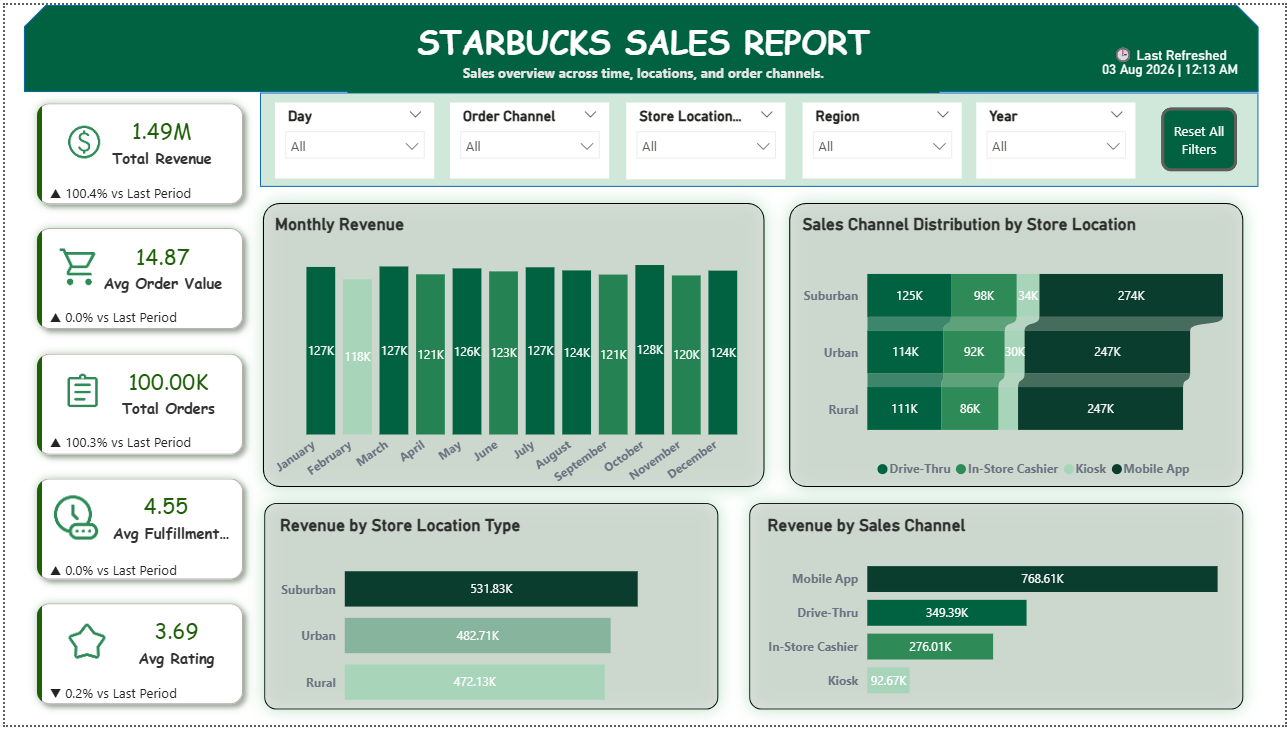

What the dashboard file says about the page in this screenshot:
{"tool":"powerbi","page":{"name":"OVERVIEW","canvas":[1280,720],"ordinal":0},"visuals":[{"type":"shape","box":[728.8,482.5,525,237.5],"z":0},{"type":"shape","box":[768.8,182.5,485,315],"z":1000},{"type":"shape","box":[243.8,482.5,485,237.5],"z":2000},{"type":"shape","box":[242.5,182.5,532.5,315],"z":3000},{"type":"shape","box":[255.3,87.7,998.4,94.4],"z":4000},{"type":"shape","box":[18.6,0,1234.9,87.2],"z":5000},{"type":"textbox","box":[343,8.1,591.9,79.1],"z":6000},{"type":"columnChart","title":"Monthly Revenue","fields":{"Category":["Calendar.Date.Variation.Date Hierarchy.Year","Calendar.Date.Variation.Date Hierarchy.Quarter","Calendar.Date.Variation.Date Hierarchy.Month"],"Y":["MEASURE_Table.Total Revenue"]},"box":[265,208.8,487.5,288.8],"z":7000},{"type":"slicer","fields":{"Values":["STARBUCKS.order_channel"]},"box":[445.4,97,159.5,75.8],"z":8000},{"type":"slicer","title":"Days","fields":{"Values":["STARBUCKS.day_of_week"]},"box":[269.9,97,159.5,75.8],"z":9000},{"type":"cardVisual","fields":{"Data":["MEASURE_Table.TOTAL_REVENUE","MEASURE_Table.Avg_order_val","MEASURE_Table.Total_orders","MEASURE_Table.Avg Fullfillment time","MEASURE_Table.Avg Rating"]},"box":[0,86.2,270,628],"z":10000},{"type":"slicer","fields":{"Values":["STARBUCKS.store_location_type"]},"box":[621,97,159.5,77.1],"z":11000},{"type":"barChart","title":"Revenue by Sales Channel","fields":{"Y":["MEASURE_Table.Total Revenue"],"Category":["STARBUCKS.order_channel"]},"box":[757.5,510,506.2,197.5],"z":12000},{"type":"barChart","title":"Sales Channel Distribution by Store Location","fields":{"Series":["STARBUCKS.order_channel"],"Y":["MEASURE_Table.Total Revenue"],"Category":["STARBUCKS.store_location_type"]},"box":[792.5,208.8,471.2,273.8],"z":13000},{"type":"barChart","title":"Revenue by Store Location Type","fields":{"Y":["MEASURE_Table.Total Revenue"],"Category":["STARBUCKS.store_location_type"]},"box":[270,510,416.2,210],"z":14000},{"type":"slicer","fields":{"Values":["STARBUCKS.region"]},"box":[797,97,159.5,75.8],"z":15000},{"type":"actionButton","title":"Reset Filters","box":[1156.6,102.4,75.8,63.8],"z":16000},{"type":"slicer","fields":{"Values":["Calendar.Year"]},"box":[971.8,97.1,159.5,75.8],"z":17000},{"type":"card","fields":{"Values":["Min(last.Last Refresh)"]},"box":[1087.5,31.2,155,55],"z":17001}]}

Visuals, with their boxes in screenshot pixels (x1, y1, x2, y2), scaled from the page's 1280x720 canvas onto the 1287x729 screenshot:
shape: 733 489 1261 728
shape: 773 185 1261 504
shape: 245 489 733 728
shape: 244 185 779 504
shape: 257 89 1261 184
shape: 19 0 1260 88
textbox: 345 8 940 88
"Monthly Revenue" columnChart: 266 211 757 504
slicer - STARBUCKS.order_channel: 448 98 608 175
"Days" slicer: 271 98 432 175
cardVisual - MEASURE_Table.TOTAL_REVENUE x MEASURE_Table.Avg_order_val: 0 87 271 723
slicer - STARBUCKS.store_location_type: 624 98 785 176
"Revenue by Sales Channel" barChart: 762 516 1271 716
"Sales Channel Distribution by Store Location" barChart: 797 211 1271 489
"Revenue by Store Location Type" barChart: 271 516 690 728
slicer - STARBUCKS.region: 801 98 962 175
"Reset Filters" actionButton: 1163 104 1239 168
slicer - Calendar.Year: 977 98 1137 175
card - Min(last.Last Refresh): 1093 32 1249 87
